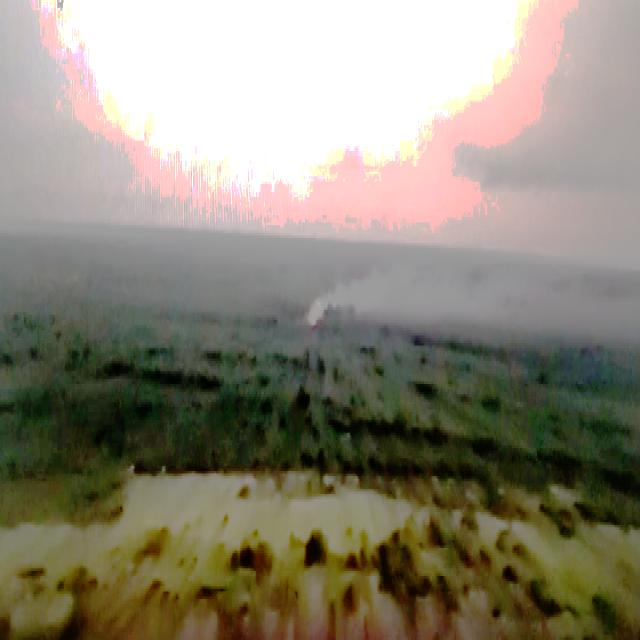asap: (299, 262, 399, 334)
